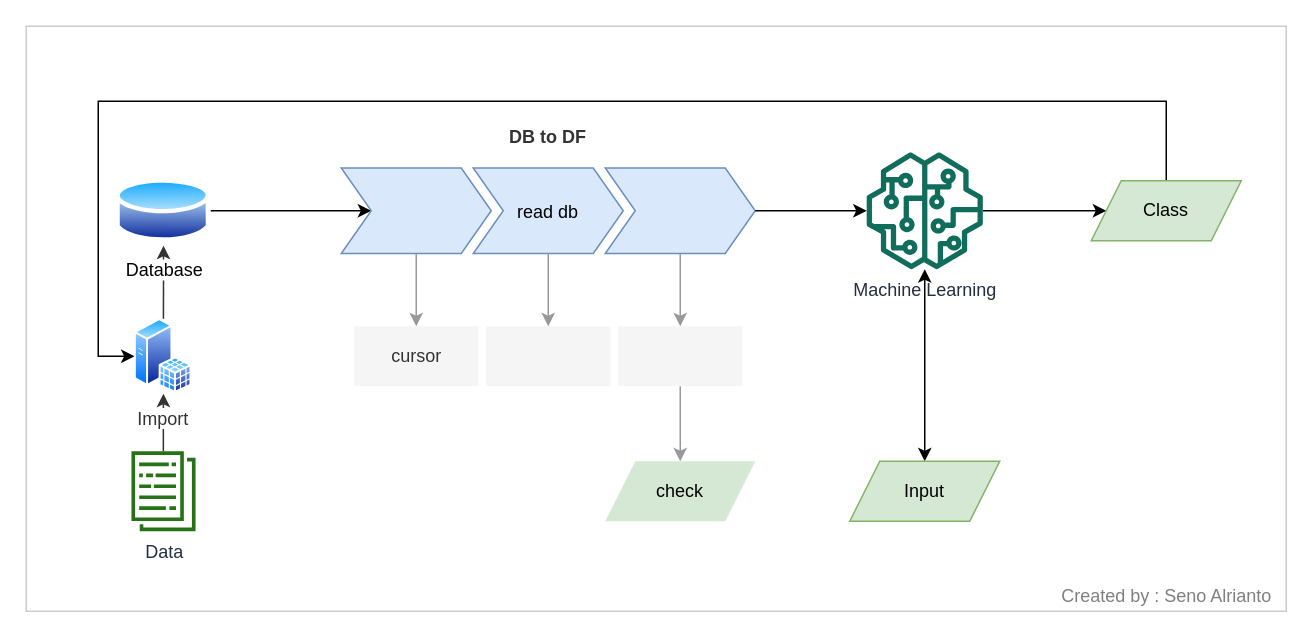
Image size: 1313x638. Some labels were removed from this diagram. The shapes that lost their labels are listed below. From the top down, each one's centre as x and y in pixels, then its label:
[415,210]: connect
[679,210]: convert
[547,356]: execute
[679,356]: df
